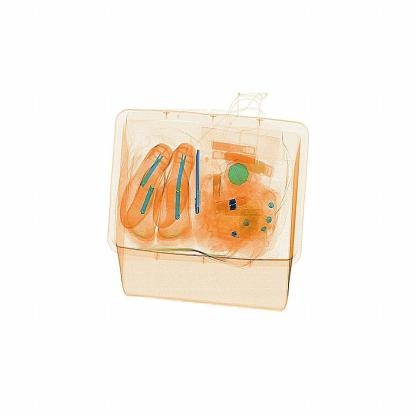pliers: (185, 143, 206, 216)
